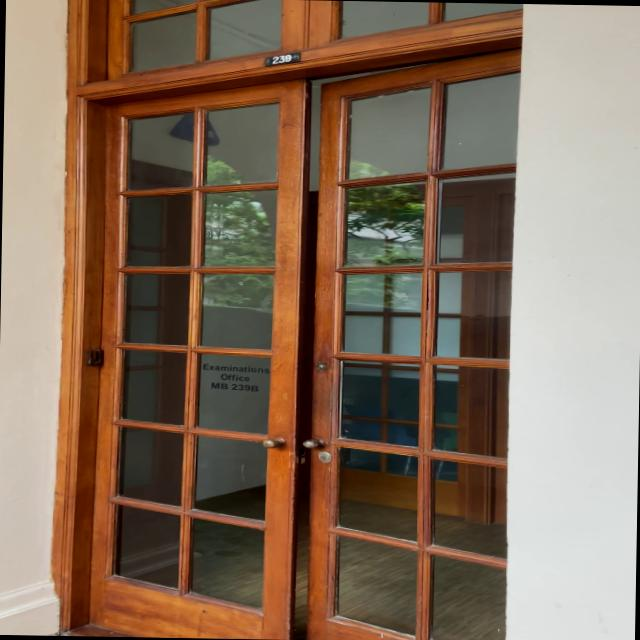room239: (264, 52, 302, 68)
